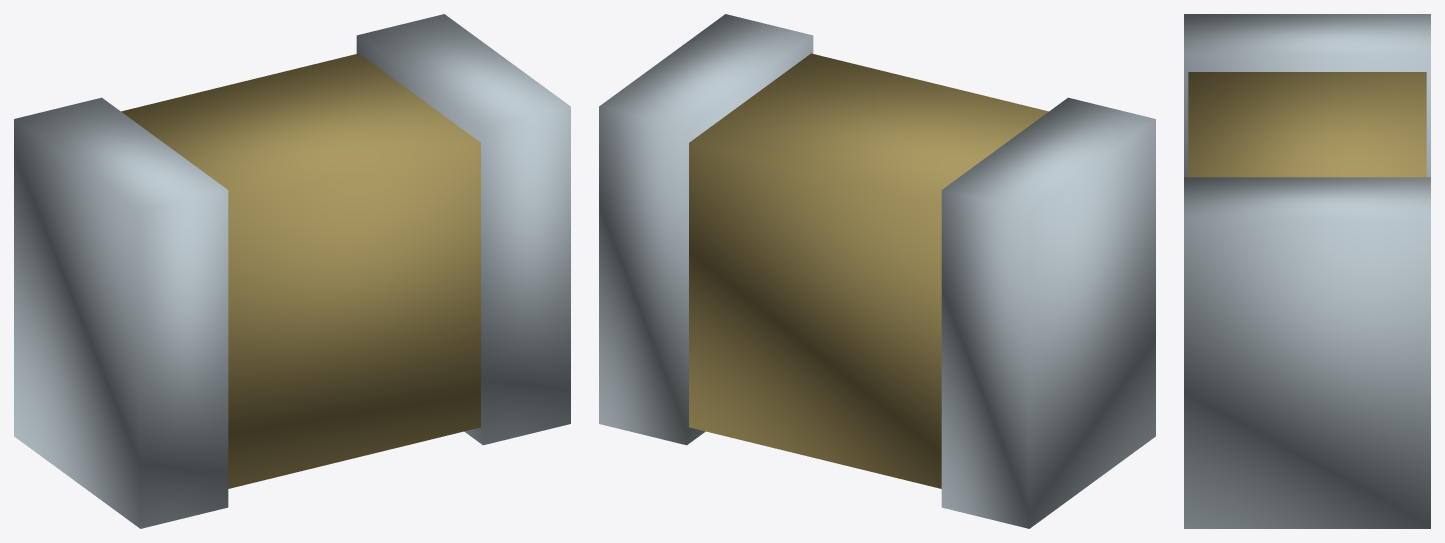
Rendered from 35_L94_C3_MCUDecoupling_100n.fbx.
3 renders of one model, left to right at view 1: azimuth 30°, elevation 25°; view 2: azimuth 150°, elevation 25°; view 3: azimuth 270°, elevation 25°, orthographic. The views are drawn at different scales.
Visible parts, largest first — view 1: L94_MCUDecoupling_100n_Part_0001, L94_MCUDecoupling_100n_Part_0000; view 2: L94_MCUDecoupling_100n_Part_0001, L94_MCUDecoupling_100n_Part_0000; view 3: L94_MCUDecoupling_100n_Part_0001, L94_MCUDecoupling_100n_Part_0000.
Part boxes in pixels (x1=…): L94_MCUDecoupling_100n_Part_0001: x1=14, y1=14, x2=570, y2=528; L94_MCUDecoupling_100n_Part_0000: x1=121, y1=53, x2=480, y2=488; L94_MCUDecoupling_100n_Part_0001: x1=599, y1=14, x2=1155, y2=528; L94_MCUDecoupling_100n_Part_0000: x1=689, y1=53, x2=1048, y2=488; L94_MCUDecoupling_100n_Part_0001: x1=1184, y1=14, x2=1430, y2=528; L94_MCUDecoupling_100n_Part_0000: x1=1188, y1=72, x2=1426, y2=177.
Size of the model in its own units: 4.12 by 2.9 by 2.09.
